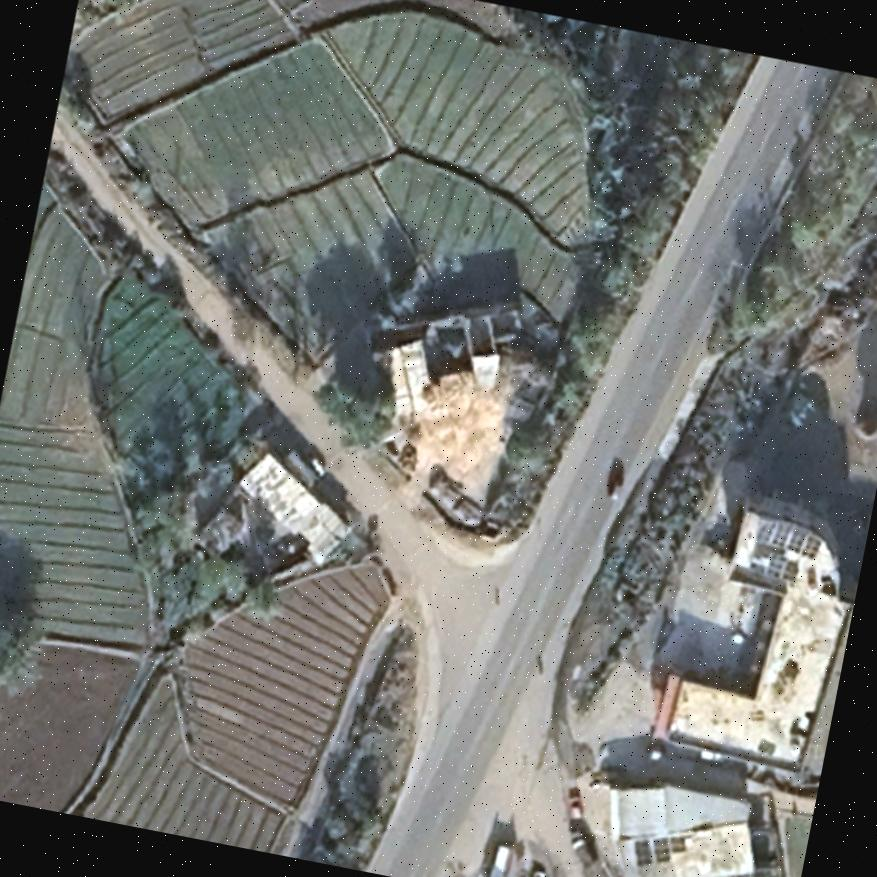Solarpanel: (748, 511, 820, 559), (631, 829, 688, 866), (758, 547, 802, 586)
